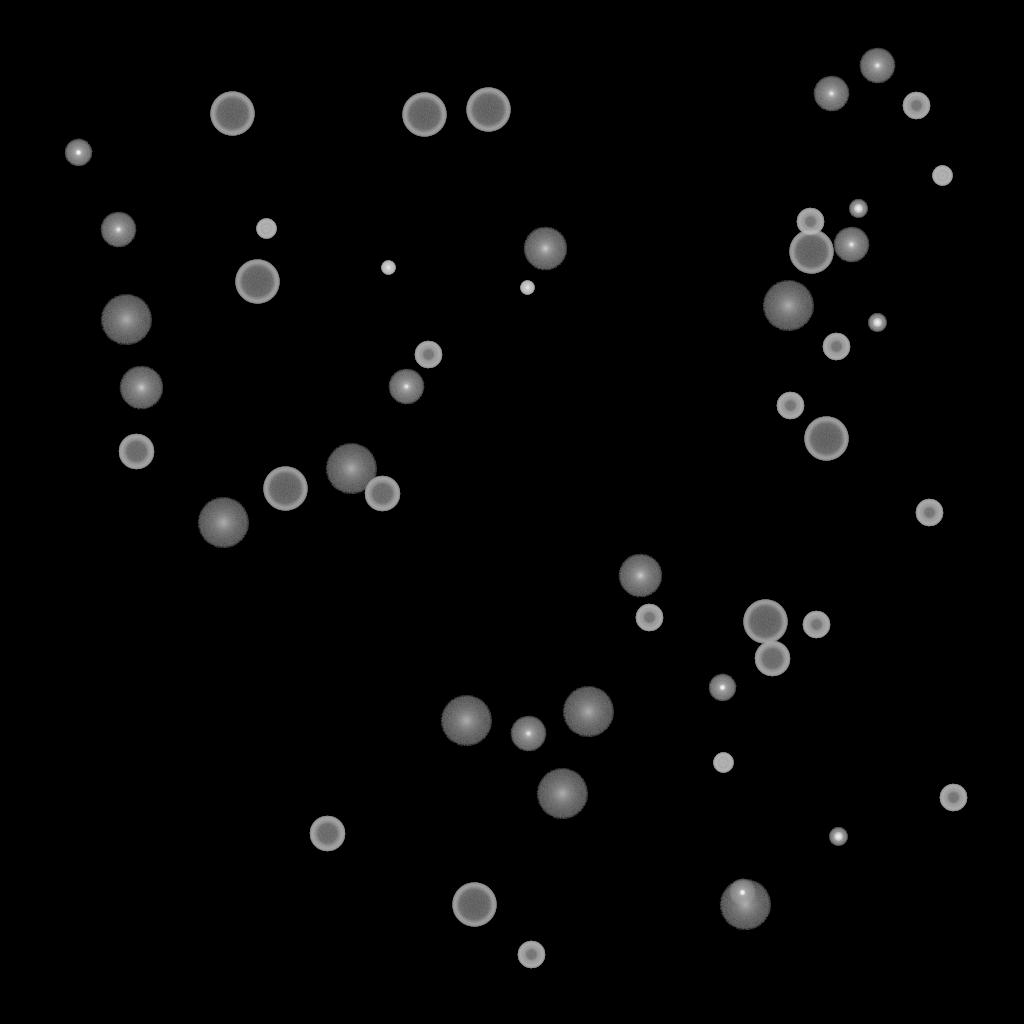depth:-10: (708, 674, 736, 702), (64, 139, 92, 167), (728, 879, 756, 907)
depth:-20: (868, 314, 886, 332), (849, 200, 867, 218), (829, 828, 847, 846)
depth:-30: (381, 261, 395, 275), (520, 281, 534, 295)
depth:-40: (932, 166, 952, 186), (713, 753, 733, 773), (256, 219, 276, 239)
depth:-50: (939, 784, 967, 812), (915, 499, 943, 527), (776, 392, 804, 420), (802, 611, 830, 639), (517, 941, 545, 969), (822, 333, 850, 361), (796, 208, 824, 236), (902, 92, 930, 120), (635, 604, 663, 632), (414, 341, 442, 369)
depth:-60: (309, 816, 345, 852), (364, 476, 400, 512), (754, 641, 790, 677), (118, 434, 154, 470)
depth:-70: (235, 260, 279, 304), (466, 88, 510, 132), (789, 230, 833, 274), (402, 93, 446, 137), (210, 92, 254, 136), (804, 417, 848, 461), (743, 600, 787, 644), (452, 883, 496, 927), (263, 467, 307, 511)
depth:0: (388, 369, 424, 405), (859, 48, 895, 84), (510, 716, 546, 752), (813, 76, 849, 112), (833, 227, 869, 263), (100, 212, 136, 248)
depth:10: (523, 227, 567, 271), (618, 554, 662, 598), (119, 366, 163, 410)
depth:20: (100, 295, 152, 345), (562, 687, 614, 737), (440, 696, 492, 746), (719, 880, 771, 930), (762, 281, 814, 331), (197, 498, 249, 548), (325, 444, 377, 494), (536, 769, 588, 819)
